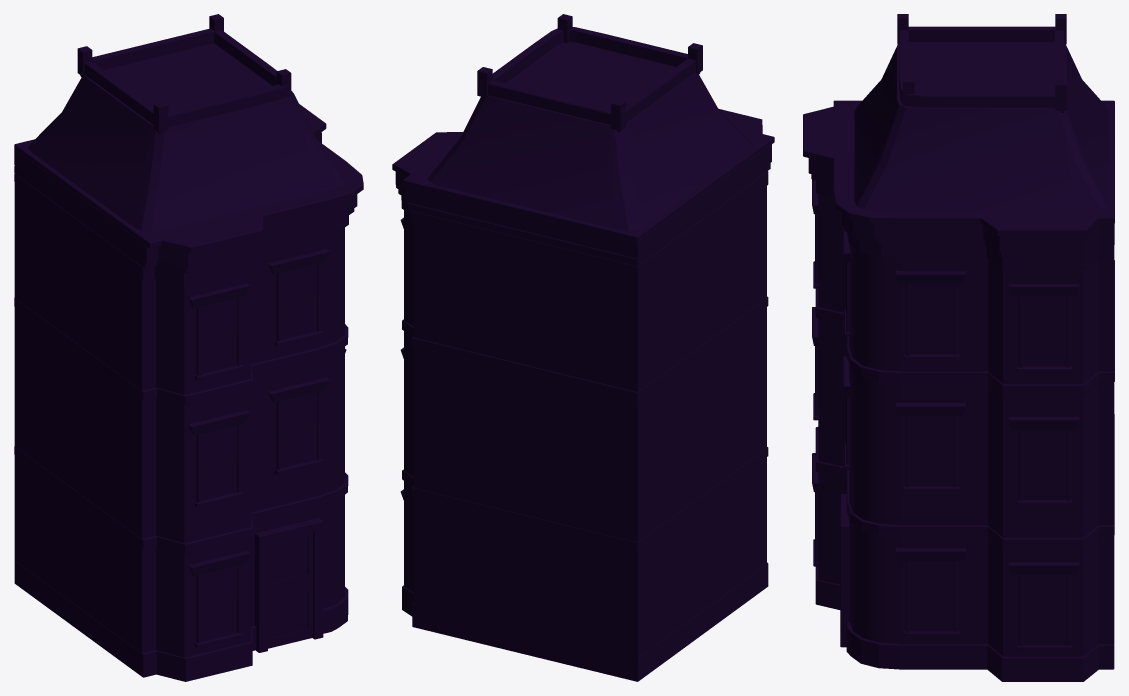
The model's file is AS_Building_2.0.fbx.
3 renders of one model, left to right at view 1: azimuth 30°, elevation 25°; view 2: azimuth 150°, elevation 25°; view 3: azimuth 270°, elevation 25°, orthographic. The views are drawn at different scales.
Visible parts, largest first — view 1: Box001, Box002, Box003, Top_L, Decor_L, Window_Pane_L, Window_L, Object001, Door_L, Door_Frame_L; view 2: Box001, Box002, Top_L, Decor_L, Object001, Box004; view 3: Box001, Box002, Box004, Top_L, Window_Pane_L, Decor_L, Window_L, Box003, Object001, Door_Frame_L.
Part boxes in pixels (x1,y1,x2,y2): Box001: (14,173,344,653); Box002: (28,43,349,231); Box003: (156,269,250,657); Top_L: (14,104,363,285); Decor_L: (14,298,348,681); Window_Pane_L: (201,264,317,641); Window_L: (188,248,346,648); Object001: (80,28,289,134); Door_L: (268,533,312,648); Door_Frame_L: (255,518,323,652); Box001: (414,172,766,680); Box002: (427,41,752,230); Top_L: (392,108,774,279); Decor_L: (402,296,768,681); Object001: (481,27,700,132); Box004: (404,210,413,592); Box001: (849,244,1114,644); Box002: (854,42,1108,210); Box004: (988,258,1098,656); Top_L: (803,100,1114,269); Window_Pane_L: (910,284,1066,645); Decor_L: (815,260,1114,681); Window_L: (812,179,1079,650); Box003: (818,193,846,584); Object001: (899,26,1064,112); Door_Frame_L: (840,494,849,647).
Size of the model in its own units: 5326 by 10803 by 5416.
